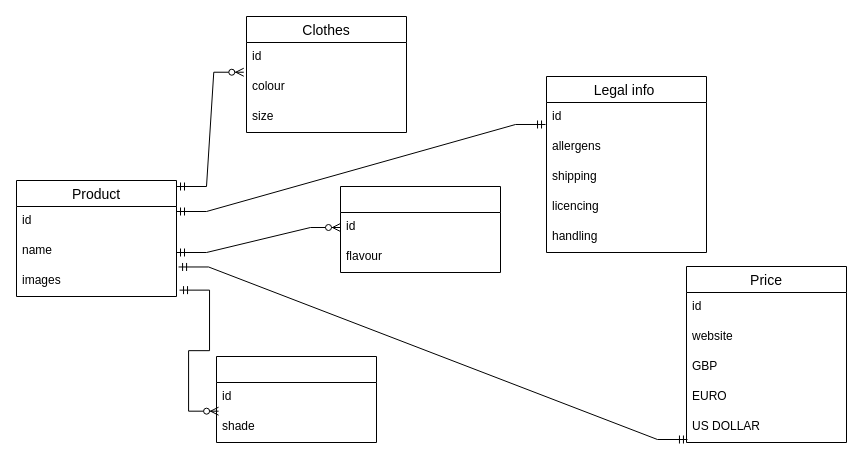
This 863x460 diagram has some shape labels left out. Each missing label, with the box of its shape:
Food: (340, 186, 500, 272)
Makeup: (216, 356, 376, 442)
